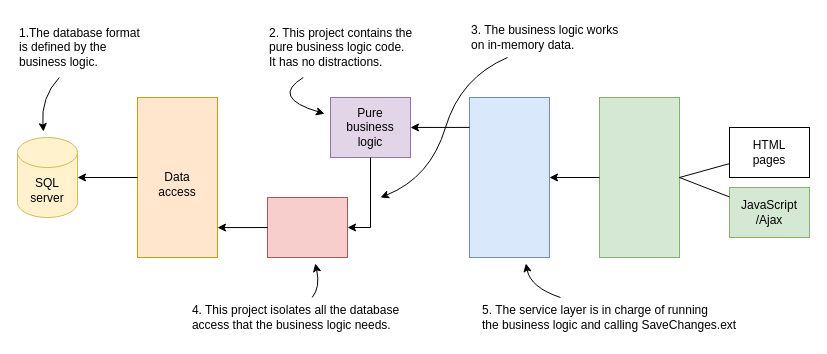
Some shapes in this 827 by 354 pixel diagram are drawn without their labels. Each missing label, with the centre of its shape:
"ASP.NET Core web app" goes at point (639, 177).
"Business database access" goes at point (307, 227).
"Service layer" goes at point (509, 177).
